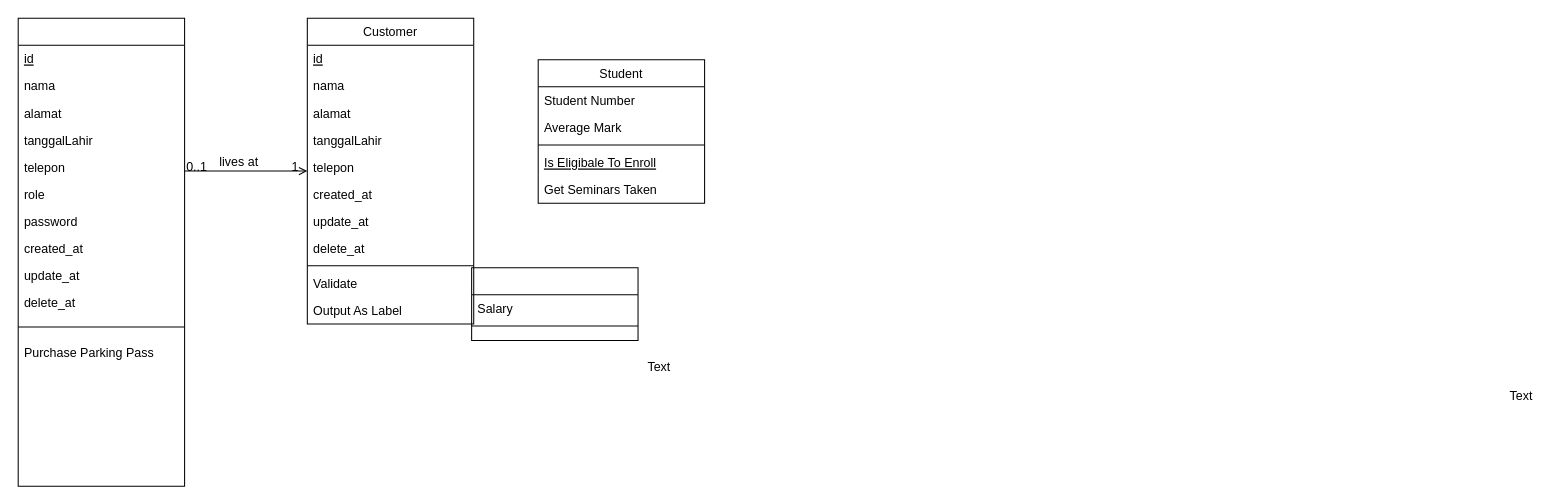
Image size: 1560x504. Some labels were removed from this diagram. The shapes that lost their labels are listed below. From the top down, each one's box as (x1, y1, x2, y2) in pixels, then its label:
(17, 17, 185, 486): Pelayan
(471, 267, 638, 341): Professor
